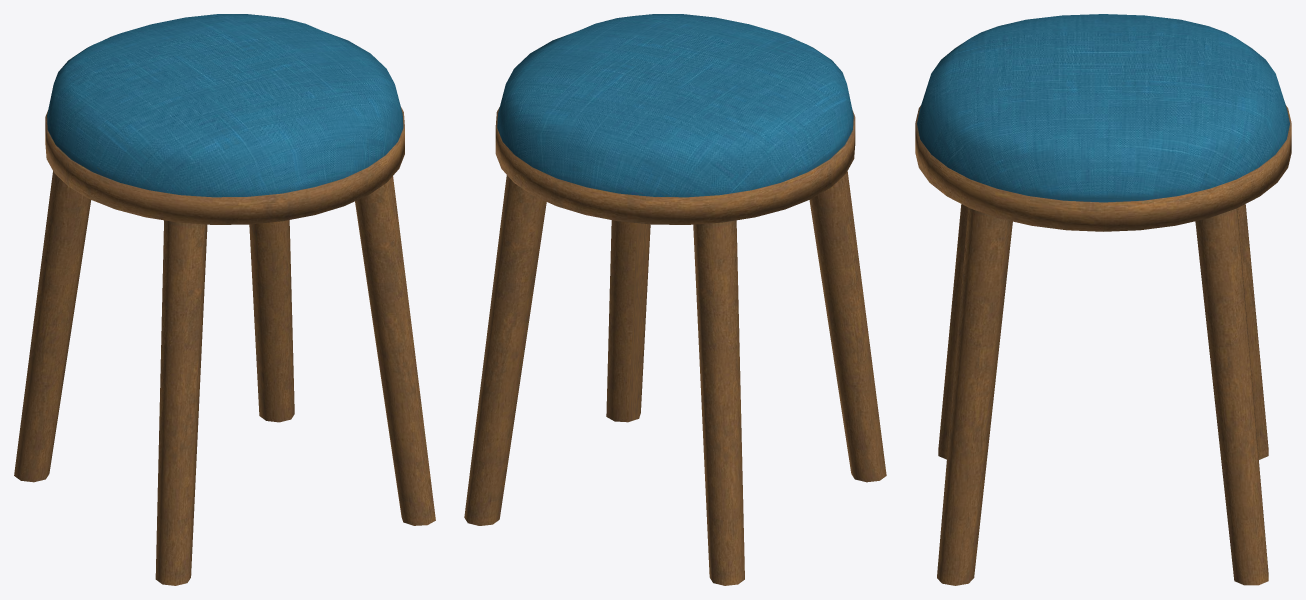
The model's file is Stool.fbx.
The picture shows the model from 3 angles, left to right: view 1: azimuth 30°, elevation 25°; view 2: azimuth 150°, elevation 25°; view 3: azimuth 270°, elevation 25°; orthographic projection. The views are drawn at different scales.
Parts seen in each view (by area): view 1: Stool; view 2: Stool; view 3: Stool.
Boxes of the visible parts, <box> form: Stool: <box>14,14,435,585</box>; Stool: <box>464,14,886,585</box>; Stool: <box>915,14,1291,585</box>.
Size of the model in its own units: 36 by 47.47 by 36.
1 material, 1 textured.
